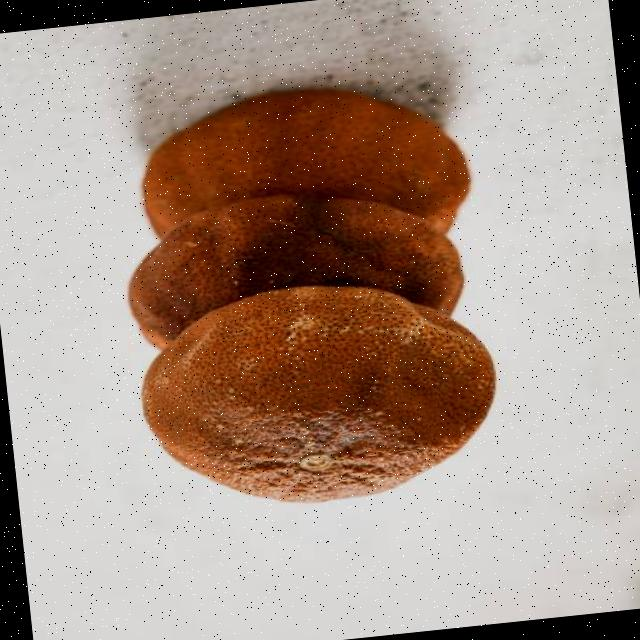overripe: (120, 262, 510, 528), (110, 71, 480, 238), (115, 175, 468, 348)
